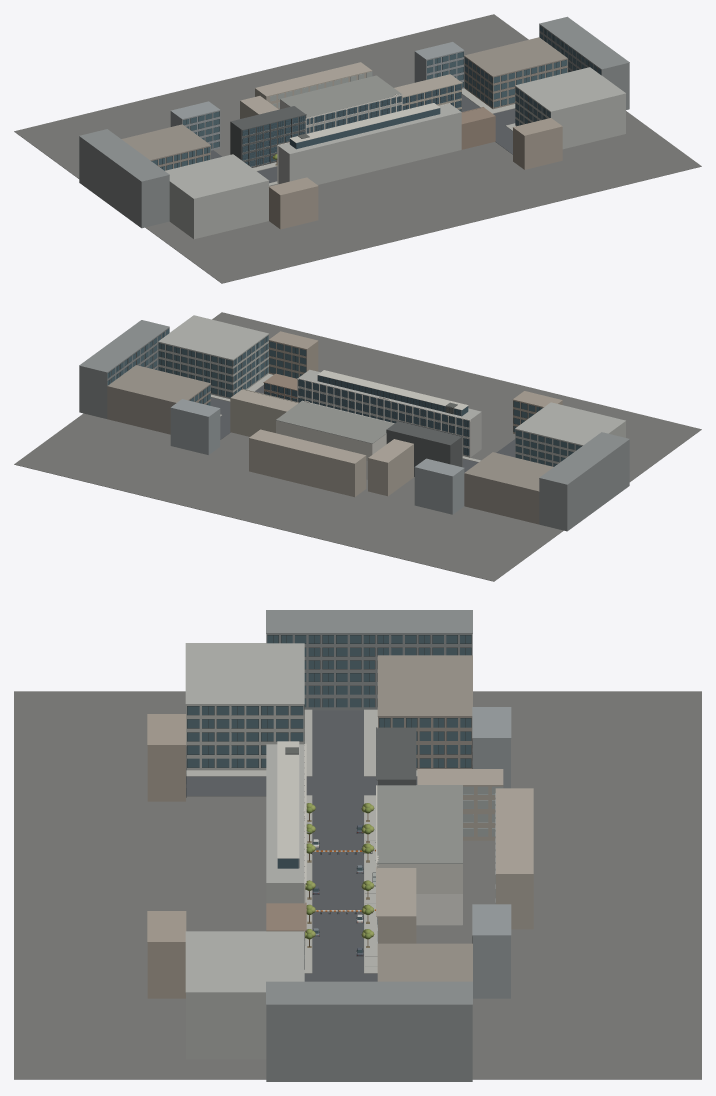
Rendered from pursuit-building.glb.
3 renders of one model, top to bottom at view 1: azimuth 30°, elevation 25°; view 2: azimuth 150°, elevation 25°; view 3: azimuth 270°, elevation 25°, orthographic. The views are drawn at different scales.
Parts seen in each view (by area): view 1: Ground_plane, Opposite_white_factory_mass, Street_distance_cap_-1_mass, Cross_street_corner_-1_1_mass, Cross_street_corner_1_1_mass, Cross_street_corner_1_1_parapet, Cross_street_corner_-1_1_parapet, Roof, Cross_street_corner_1_0_parapet, Rear_courtyard_neighbor_mass, Street_distance_cap_-1_parapet, Street_distance_cap_1_parapet (+17 smaller); view 2: Ground_plane, Rear_courtyard_neighbor_mass, Street_distance_cap_-1_mass, Cross_street_corner_1_1_parapet, Cross_street_corner_-1_1_parapet, Cross_street_corner_-1_0_mass, Roof, Cross_street_corner_1_0_mass, Cross_street_corner_1_0_parapet, Near_white_neighbor_mass, Courtyard_neighbor_mass, Near_dark_industrial_mass (+17 smaller); view 3: Ground_plane, Street_distance_cap_1_mass, Asphalt, Cross_street_corner_-1_1_parapet, Cross_street_corner_1_1_parapet, Roof, Cross_street_corner_-1_0_parapet, Cross_street_corner_1_1_mass, Rear_courtyard_neighbor_mass, Street_distance_cap_1_parapet, Street_distance_cap_-1_parapet, Street_distance_cap_-1_mass (+23 smaller).
Part boxes in pixels (box(x1,y1,x2,y2)): Ground_plane: box(14, 14, 701, 283); Opposite_white_factory_mass: box(278, 104, 461, 184); Street_distance_cap_-1_mass: box(79, 137, 169, 228); Cross_street_corner_-1_1_mass: box(169, 181, 268, 239); Cross_street_corner_1_1_mass: box(515, 86, 625, 149); Cross_street_corner_1_1_parapet: box(515, 67, 625, 111); Cross_street_corner_-1_1_parapet: box(165, 154, 269, 198); Roof: box(280, 75, 402, 117); Cross_street_corner_1_0_parapet: box(464, 37, 567, 76); Rear_courtyard_neighbor_mass: box(255, 62, 372, 109); Street_distance_cap_-1_parapet: box(79, 129, 169, 181); Street_distance_cap_1_parapet: box(539, 16, 629, 69); Ground_plane: box(14, 312, 701, 581); Rear_courtyard_neighbor_mass: box(249, 429, 366, 497); Street_distance_cap_-1_mass: box(539, 440, 629, 531); Cross_street_corner_1_1_parapet: box(158, 315, 268, 359); Cross_street_corner_-1_1_parapet: box(515, 402, 625, 445); Cross_street_corner_-1_0_mass: box(464, 473, 539, 524); Roof: box(276, 401, 393, 443); Cross_street_corner_1_0_mass: box(107, 384, 210, 434); Cross_street_corner_1_0_parapet: box(107, 365, 210, 403); Near_white_neighbor_mass: box(230, 389, 297, 436); Courtyard_neighbor_mass: box(368, 439, 413, 496); Near_dark_industrial_mass: box(386, 421, 461, 476); Ground_plane: box(14, 691, 701, 1079); Street_distance_cap_1_mass: box(266, 1005, 472, 1081); Asphalt: box(312, 779, 364, 981); Cross_street_corner_-1_1_parapet: box(185, 643, 304, 704); Cross_street_corner_1_1_parapet: box(185, 931, 304, 992); Roof: box(377, 785, 462, 863); Cross_street_corner_-1_0_parapet: box(377, 655, 472, 716); Cross_street_corner_1_1_mass: box(186, 993, 266, 1059); Rear_courtyard_neighbor_mass: box(495, 788, 533, 929); Street_distance_cap_1_parapet: box(266, 981, 472, 1004); Street_distance_cap_-1_parapet: box(266, 610, 472, 633); Street_distance_cap_-1_mass: box(266, 633, 472, 710).
Size of the model in its own units: 244 by 22.64 by 180.
